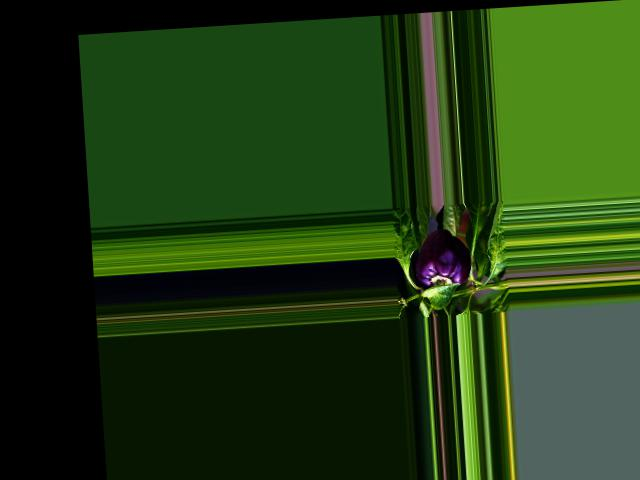bell_pepper: (413, 225, 474, 294)
